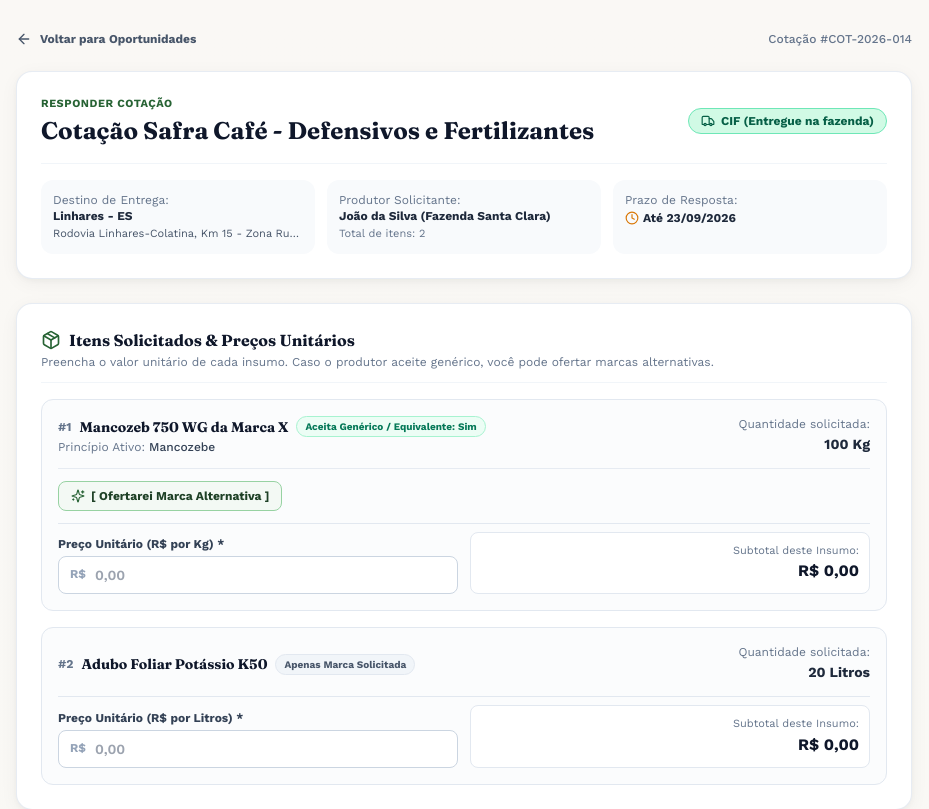
it: US14 – Envio de Proposta e Oferta de Genéricos/Equivalentes (SubmitBidPage) › Validações e Casos Extremos › deve exibir erro de validação caso selecione Barter e deixe a quantidade de sacas em branco
# Preenche preços
Type "50.00" into the number field with test id "input-unit-price-item-generic-1" at (258, 575), box [58, 556, 458, 594]
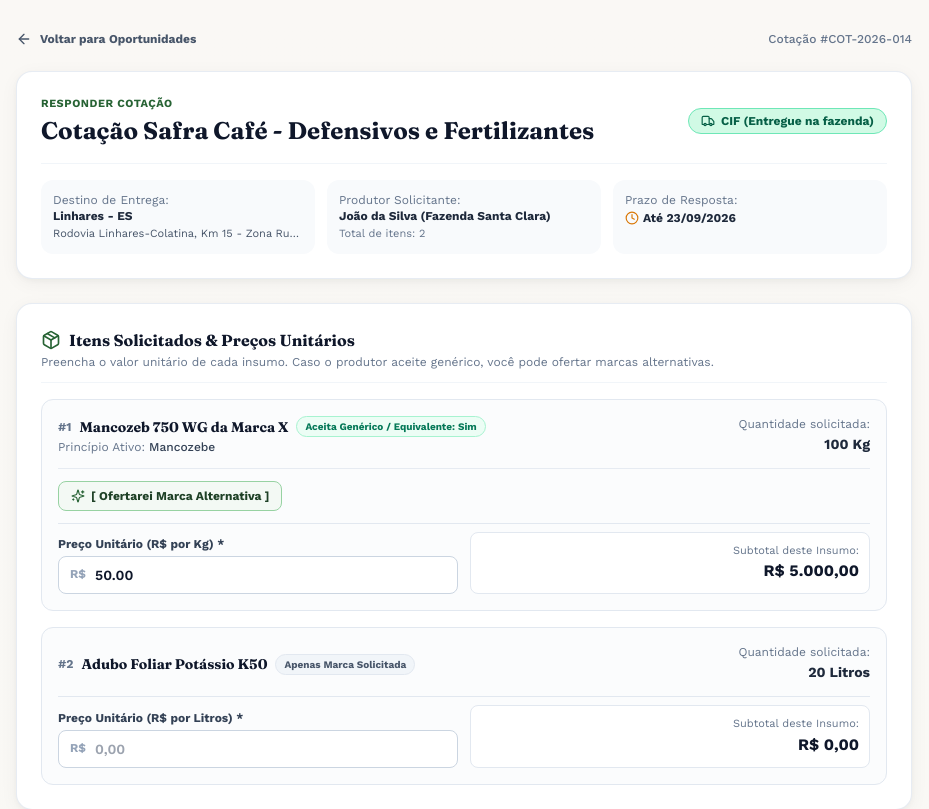
Type "70.00" into the number field with test id "input-unit-price-item-strict-2" at (258, 748), box [58, 730, 458, 768]
(page scrolled)
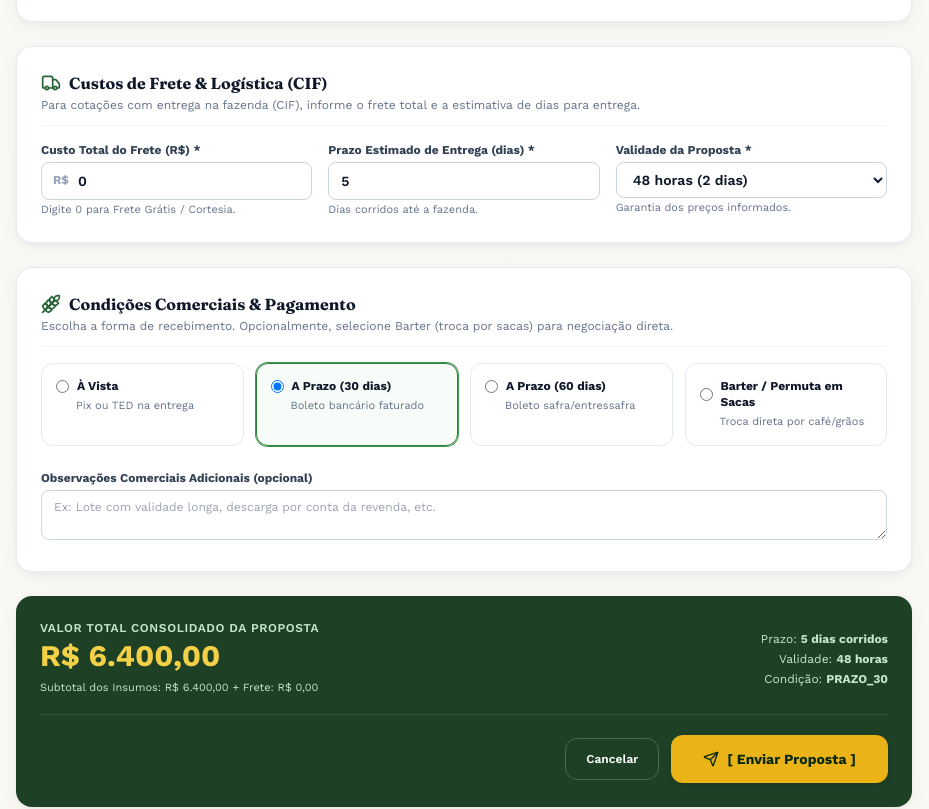
# Seleciona Barter sem preencher quantidade de sacas
Click the label with test id "radio-payment-barter" at (786, 404), box [684, 363, 887, 446]
(page scrolled)
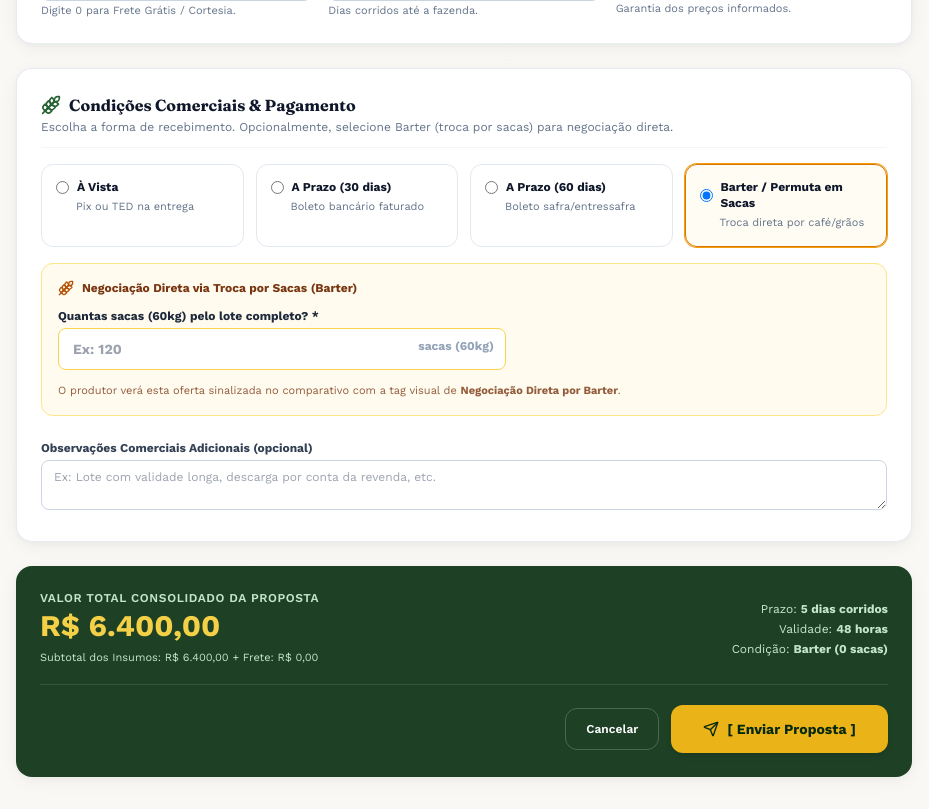
# Tenta enviar
Click the button with test id "btn-submit-bid" at (780, 729), box [671, 705, 888, 753]
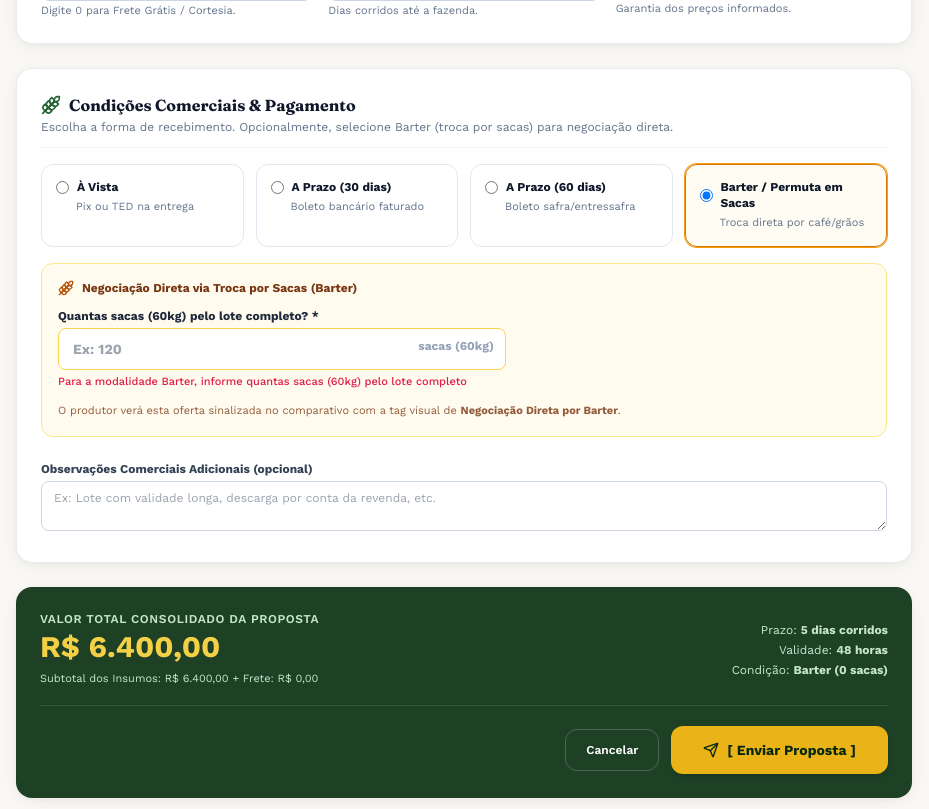
Check: the text "Para a modalidade Barter, informe quantas sacas (60kg) pelo lote completo" is shown, box [58, 374, 506, 390]
